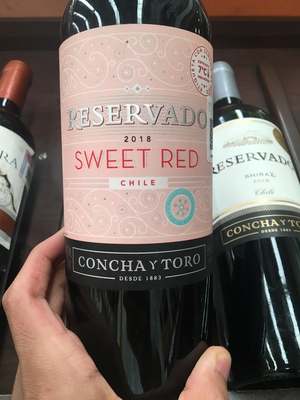reservado sweet red: (54, 4, 211, 400)
